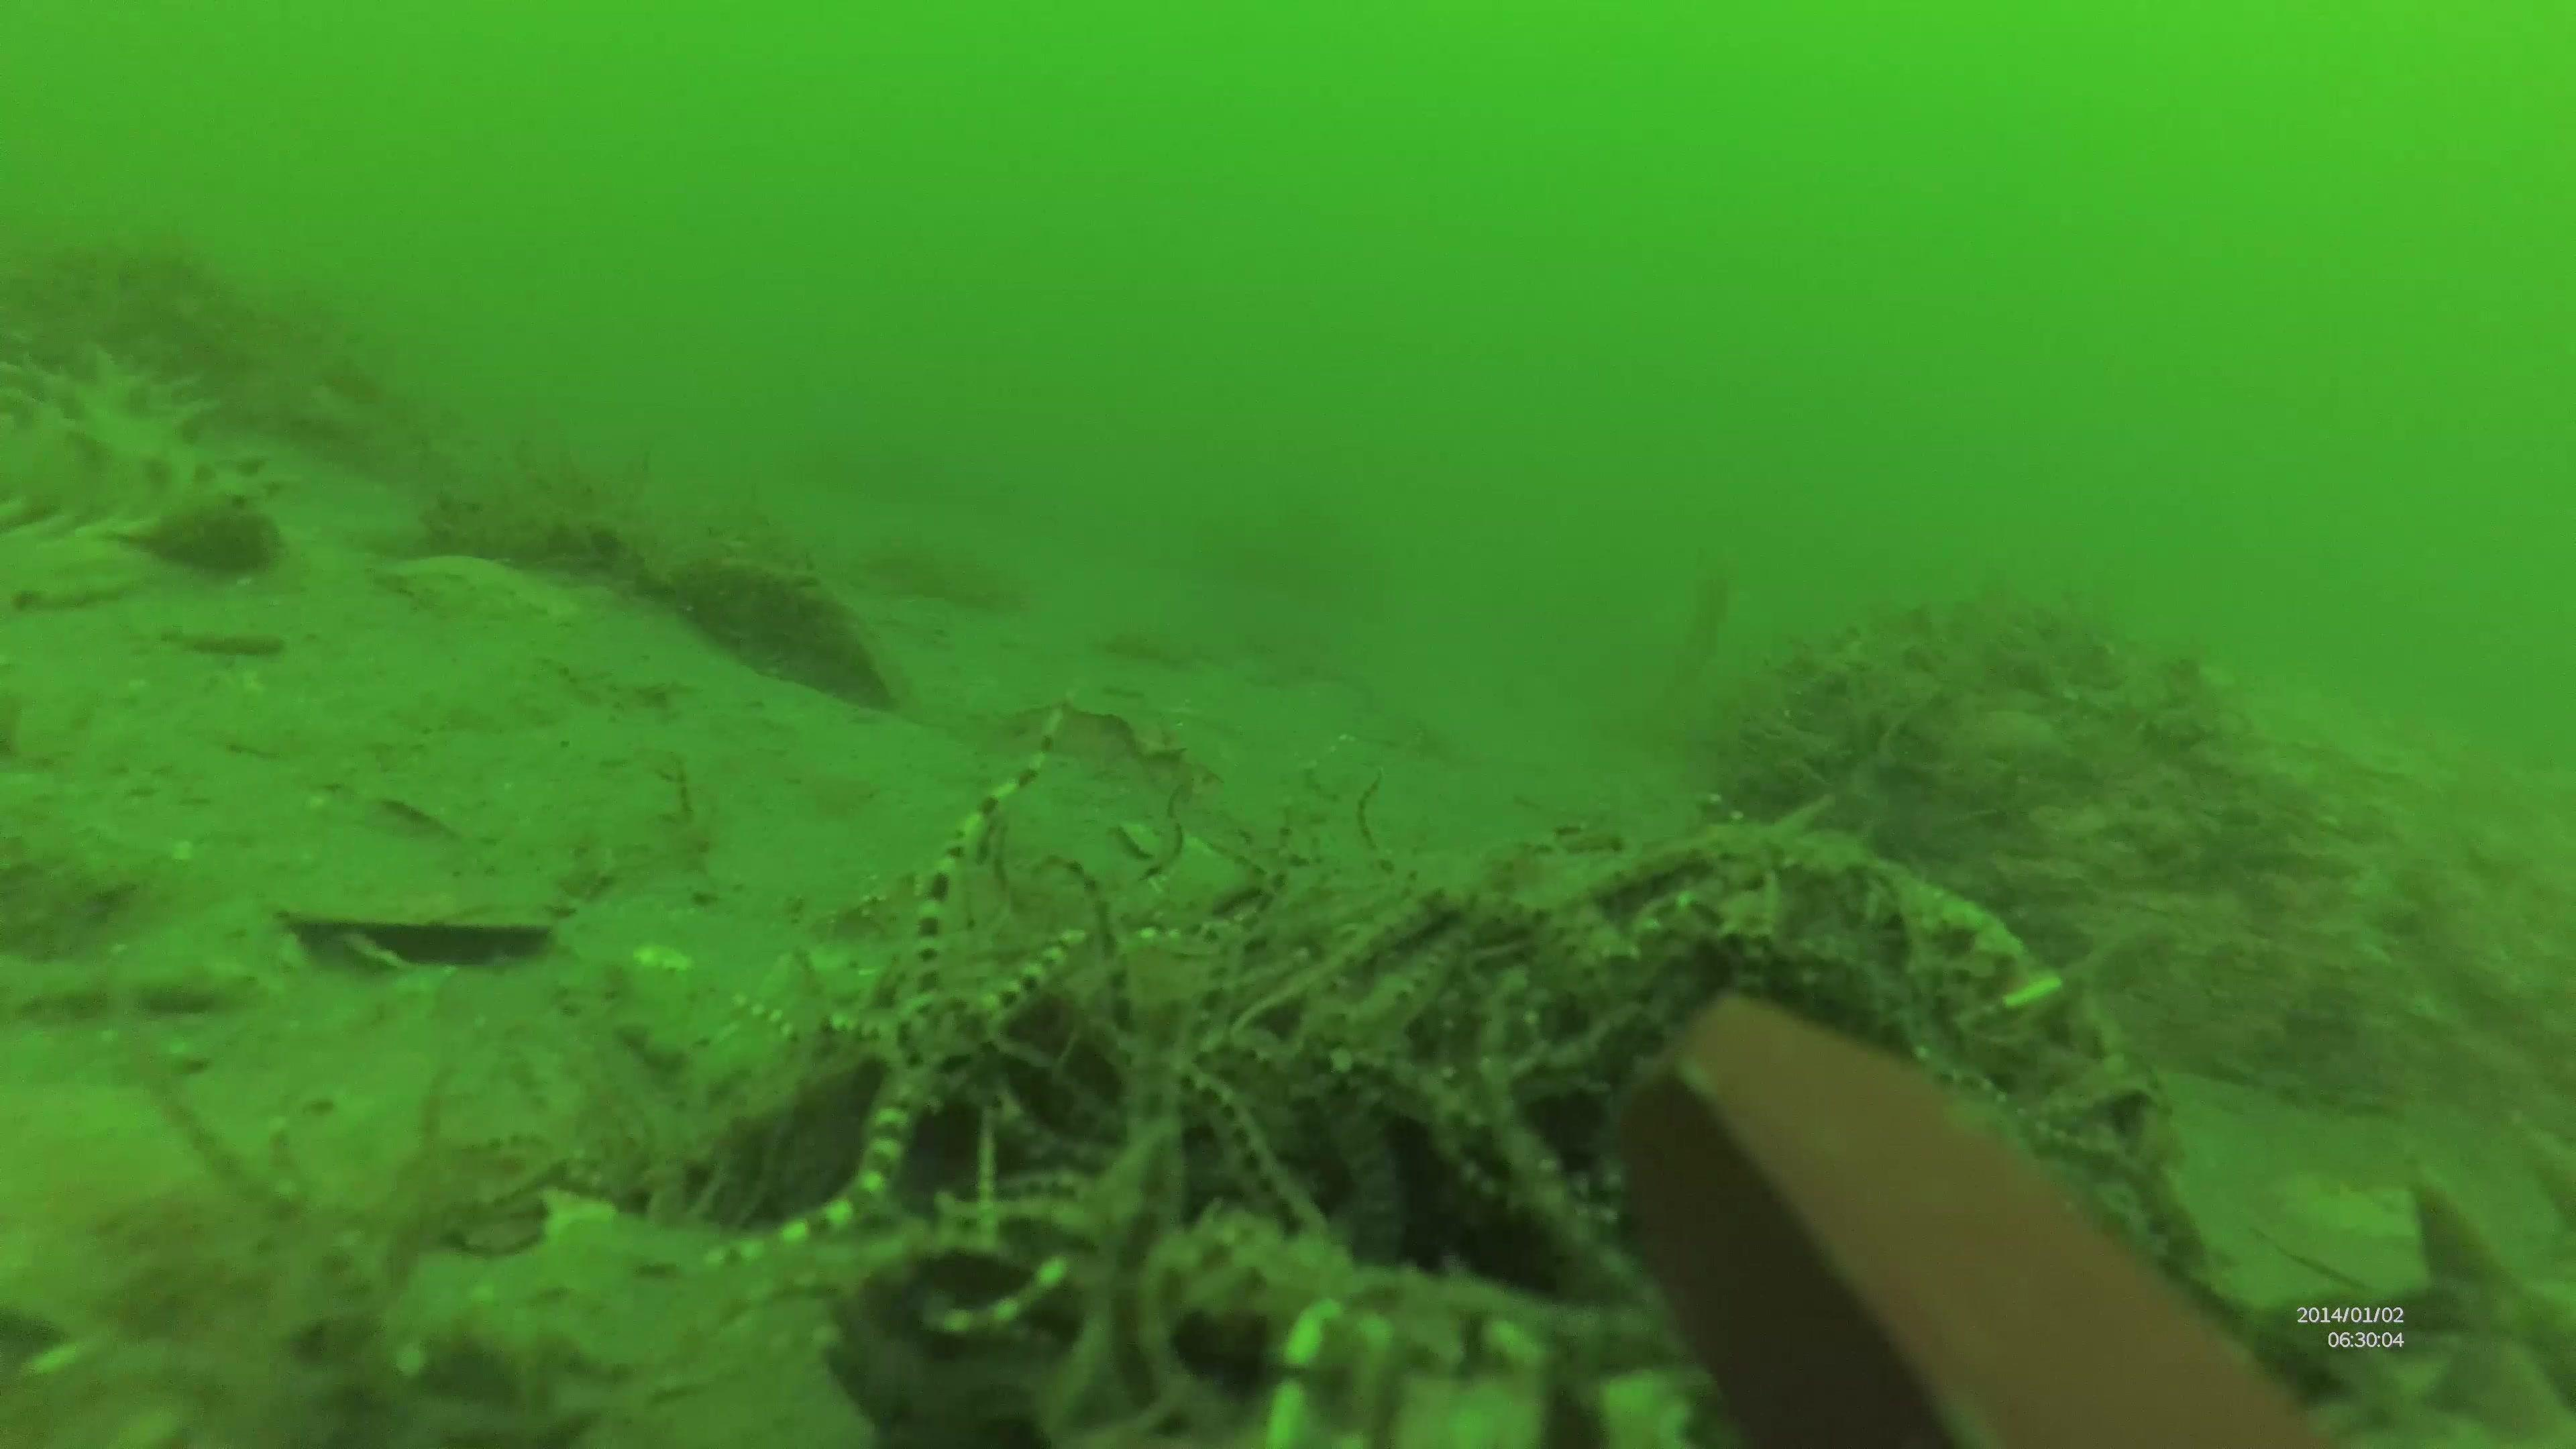holothurian: (2224, 1115, 2576, 1445), (5, 343, 287, 570)
scallop: (278, 862, 561, 977)
starfish: (635, 718, 1261, 1288)
